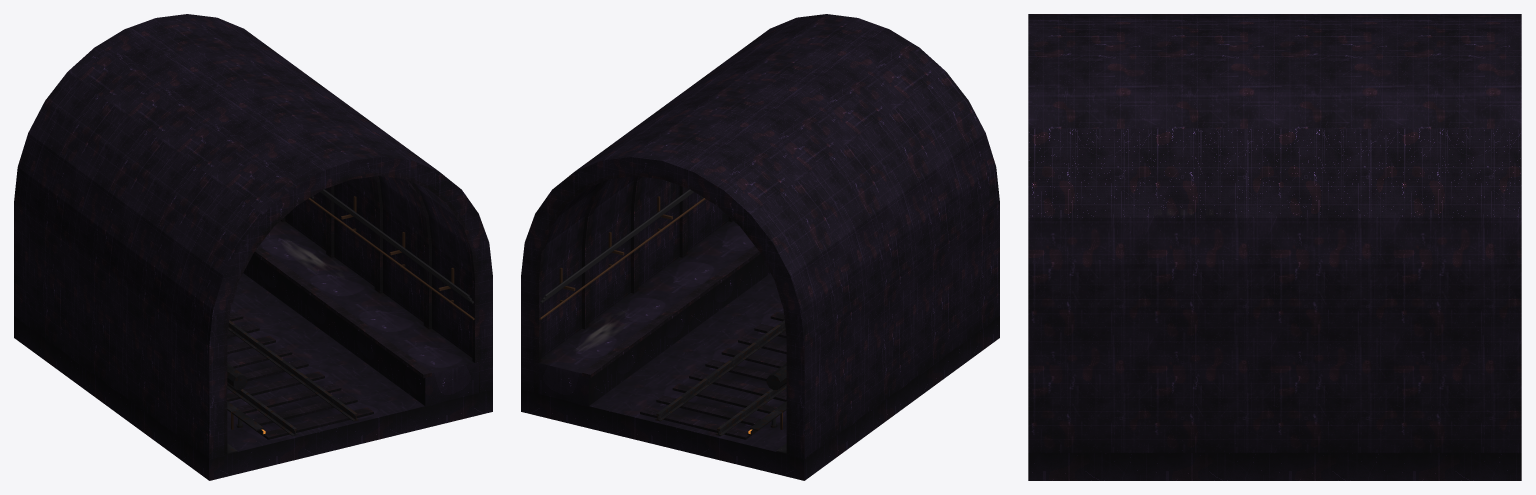
Rendered from tunnel_straight.glb.
3 views of the same model, side by side, from view 1: azimuth 30°, elevation 25°; view 2: azimuth 150°, elevation 25°; view 3: azimuth 270°, elevation 25° (orthographic). The views are drawn at different scales.
Parts seen in each view (by area): view 1: body; view 2: body; view 3: body.
Boxes of the visible parts, x1,y1,x2,y2 form: body: (14, 14, 492, 480); body: (521, 14, 999, 480); body: (1028, 14, 1521, 480).
Size of what is drawn, in the model's own units: 6.7 by 6.45 by 8.
Materials: 15 (11 with a texture image).
